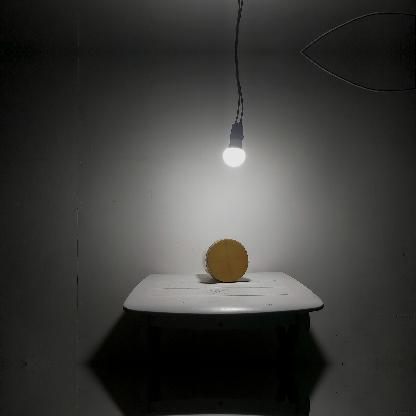Lady-s-Choice: (202, 235, 250, 283)
